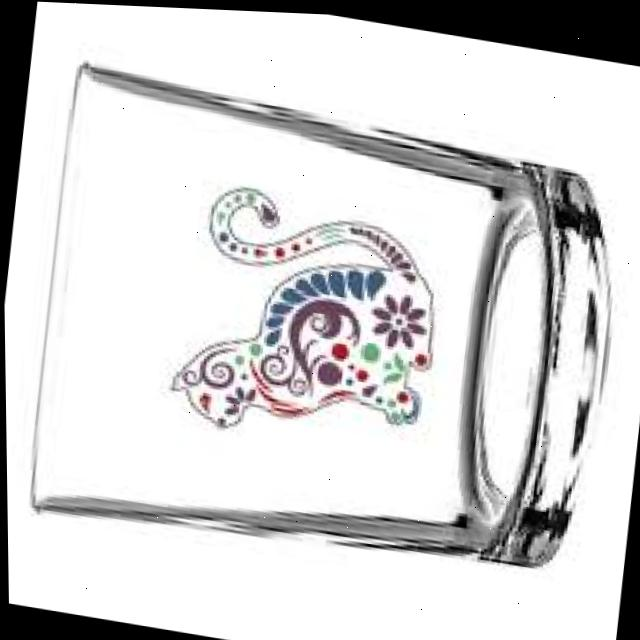Dry: (3, 47, 640, 619)
